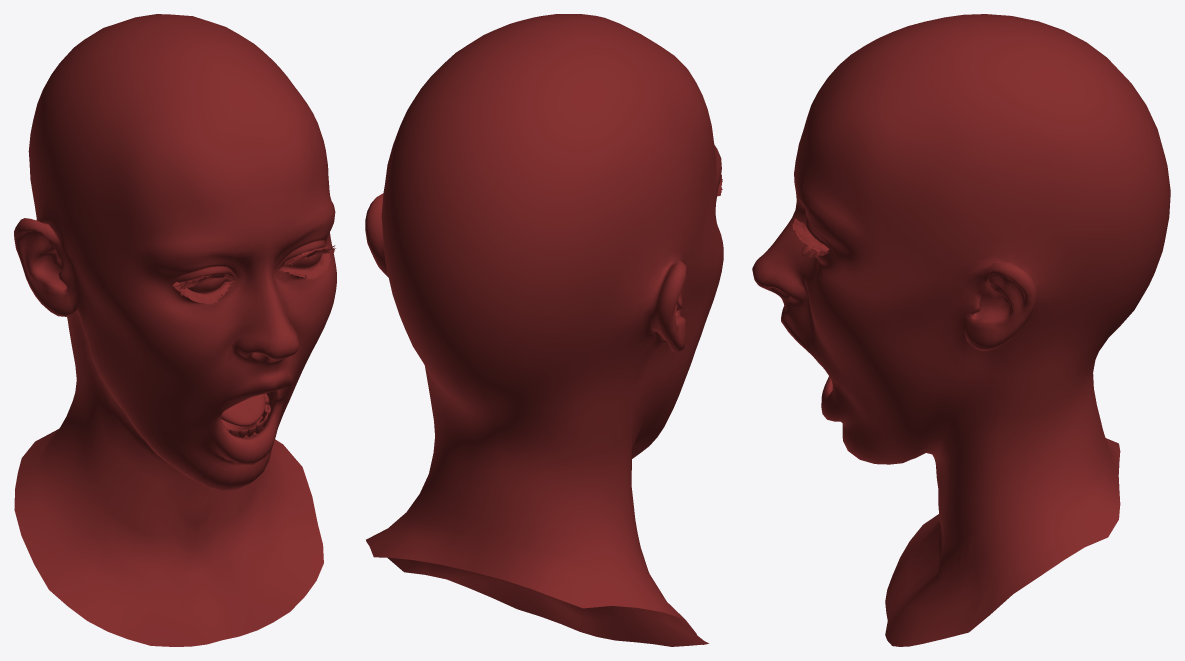
The model's file is jawOpen.FBX.
The picture shows the model from 3 angles, left to right: view 1: azimuth 30°, elevation 25°; view 2: azimuth 150°, elevation 25°; view 3: azimuth 270°, elevation 25°; orthographic projection. The views are drawn at different scales.
Parts seen in each view (by area): view 1: jawOpen; view 2: jawOpen; view 3: jawOpen.
Part boxes in pixels (box(x1,y1,x2,y2)): jawOpen: box(14, 14, 336, 646); jawOpen: box(365, 14, 723, 646); jawOpen: box(752, 14, 1170, 646).
Size of the model in its own units: 18.81 by 36.75 by 23.45.
